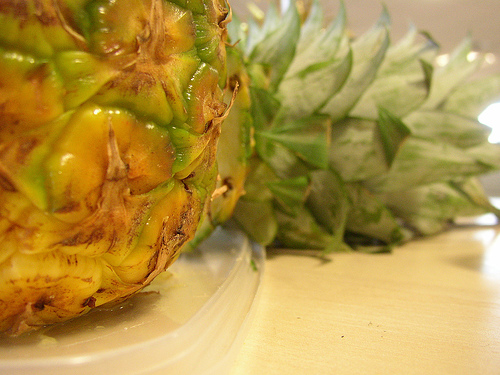pineapple: (0, 0, 240, 338)
